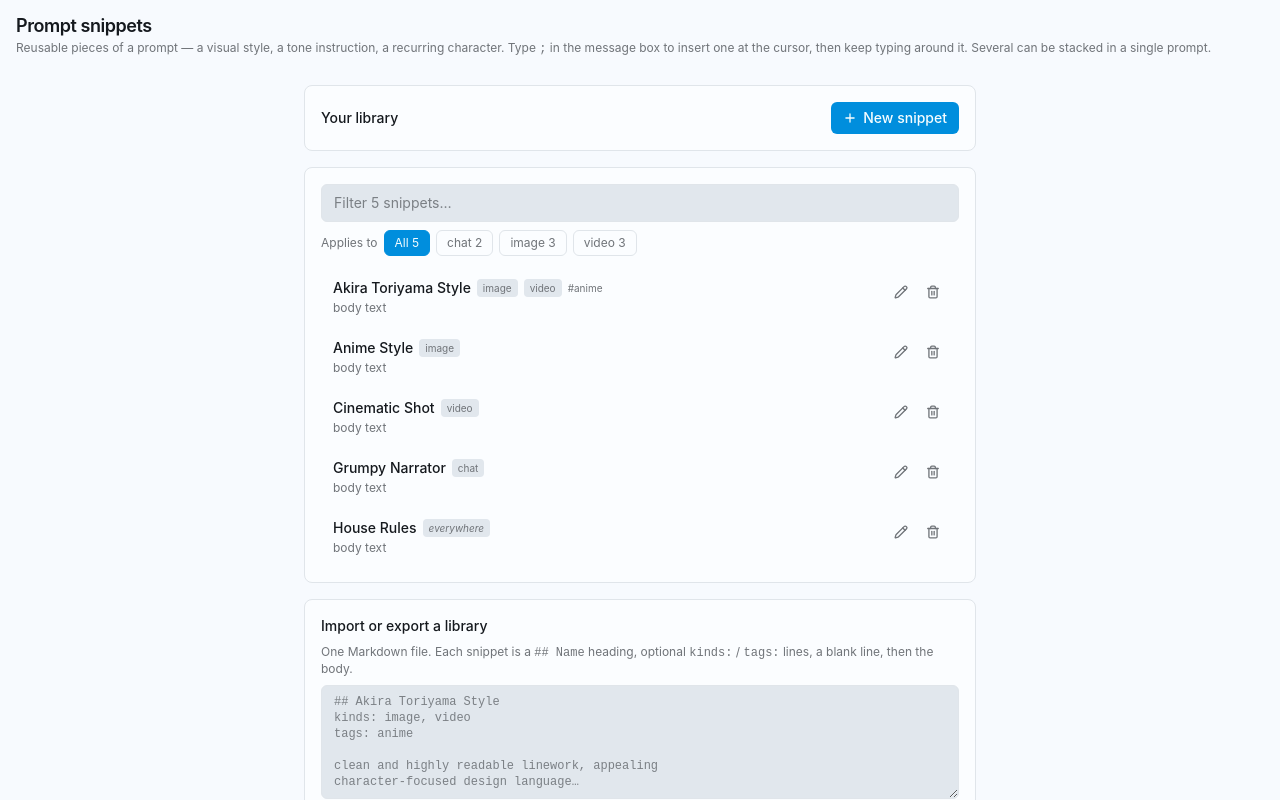
snippets settings — modality quick-filter › names both filters when they combine to empty the list
In the field with placeholder "Filter 5 snippets…": (640, 203) [321,184,959,222], type "toriyama"
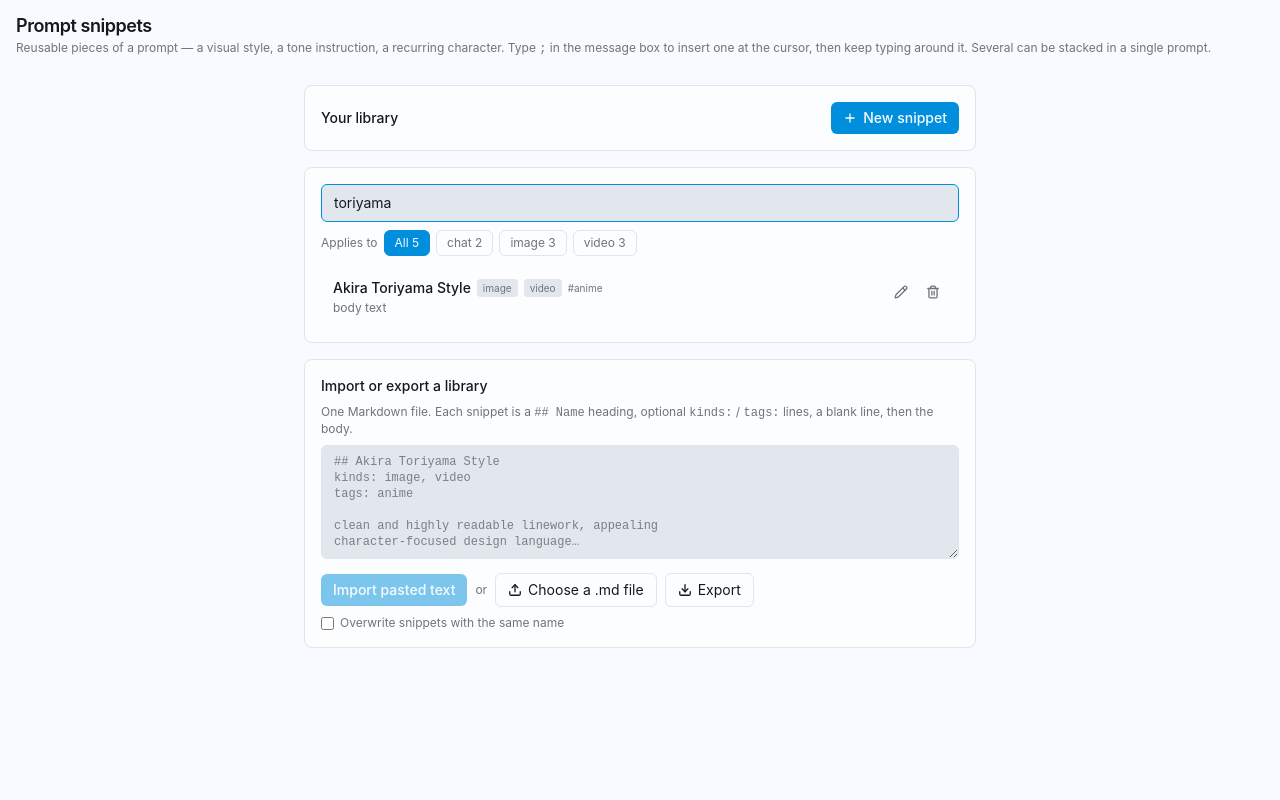
Click the button "chat 2": (465, 243) [436,230,493,256]
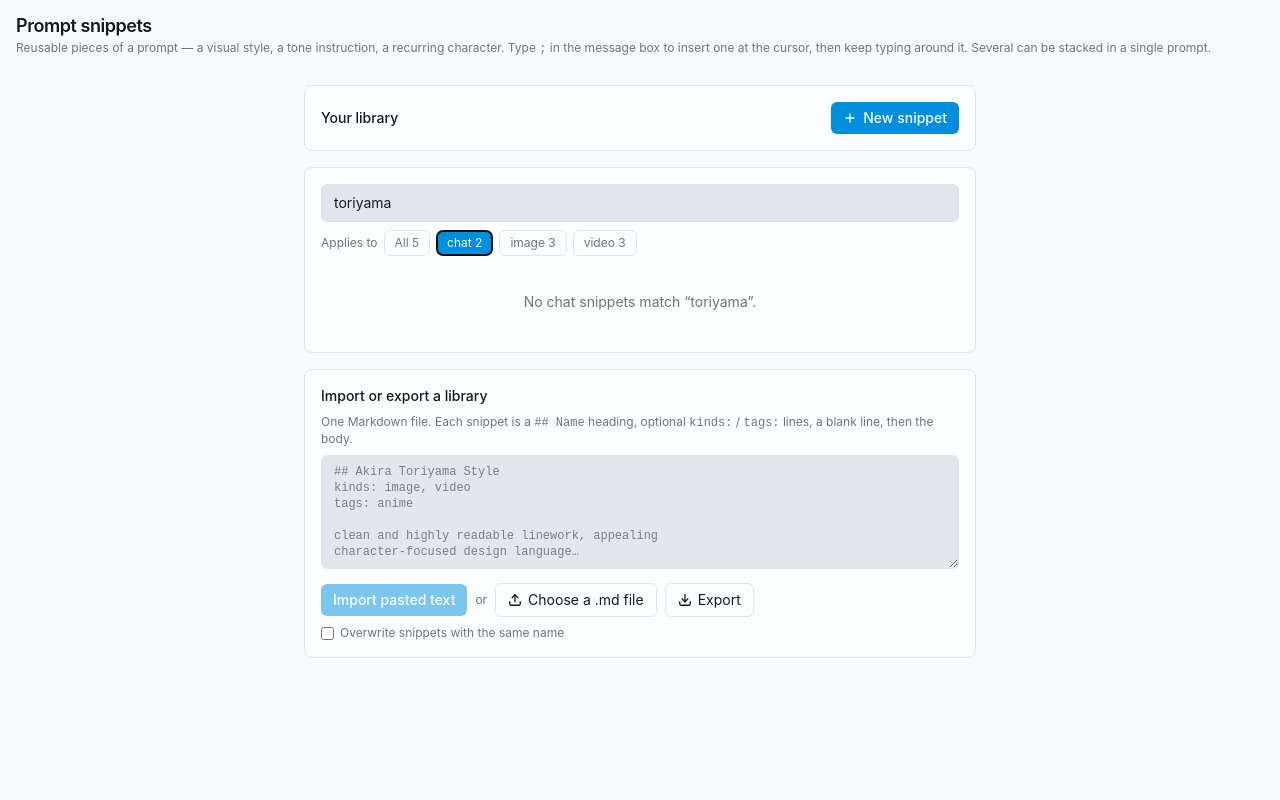
Result: the text "No chat snippets match “toriyama”." is shown at [524,293,756,310]
